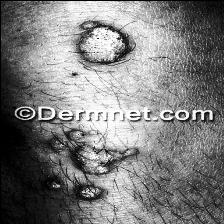Toxin: (40, 130, 140, 201), (70, 18, 132, 62)
